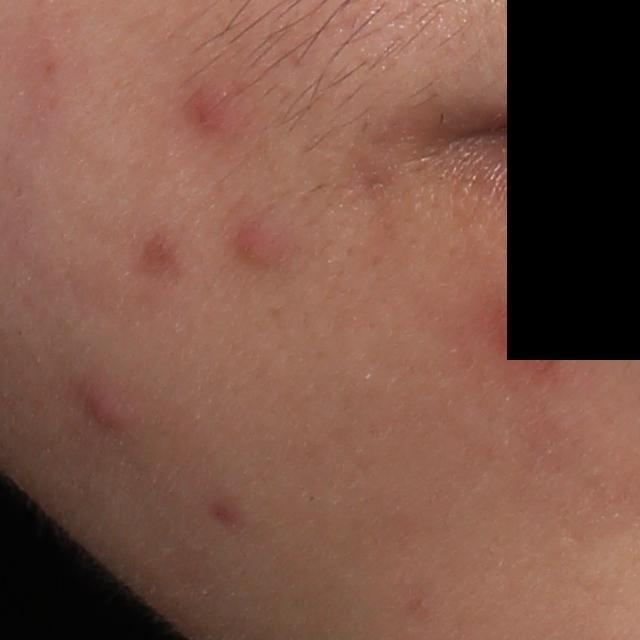papule: (186, 85, 239, 138), (233, 228, 294, 270), (83, 386, 132, 431)
